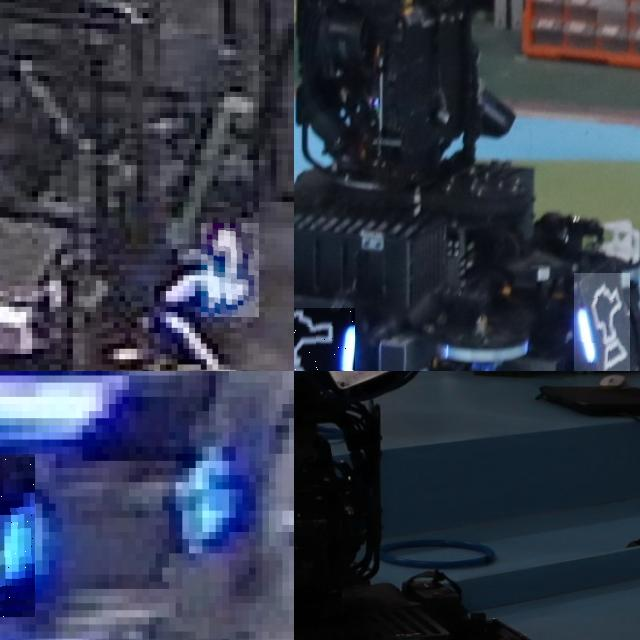B2: (201, 223, 259, 317)
Bs: (574, 273, 630, 371), (294, 307, 355, 371)
